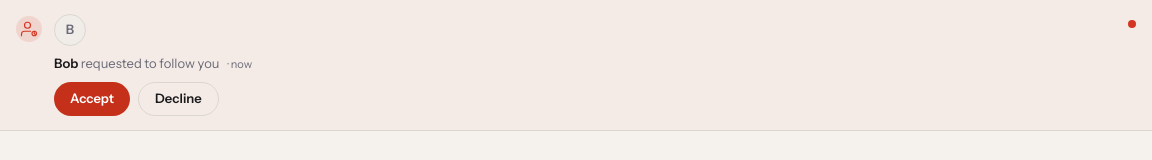
it: NotificationItem — follow_request inline actions › disables buttons while loading
Click the button with test id "follow-request-accept-bob": coordinates (92, 99) [54,82,130,116]
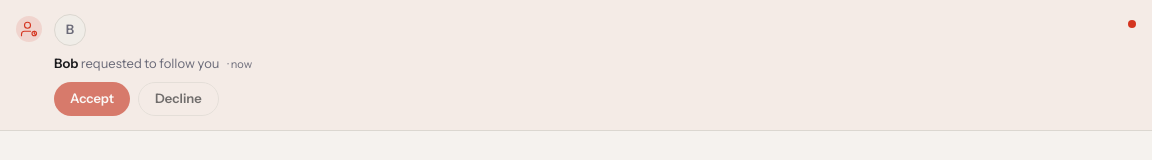
Result: the button with test id "follow-request-accept-bob" is disabled at [54,82,130,116]
